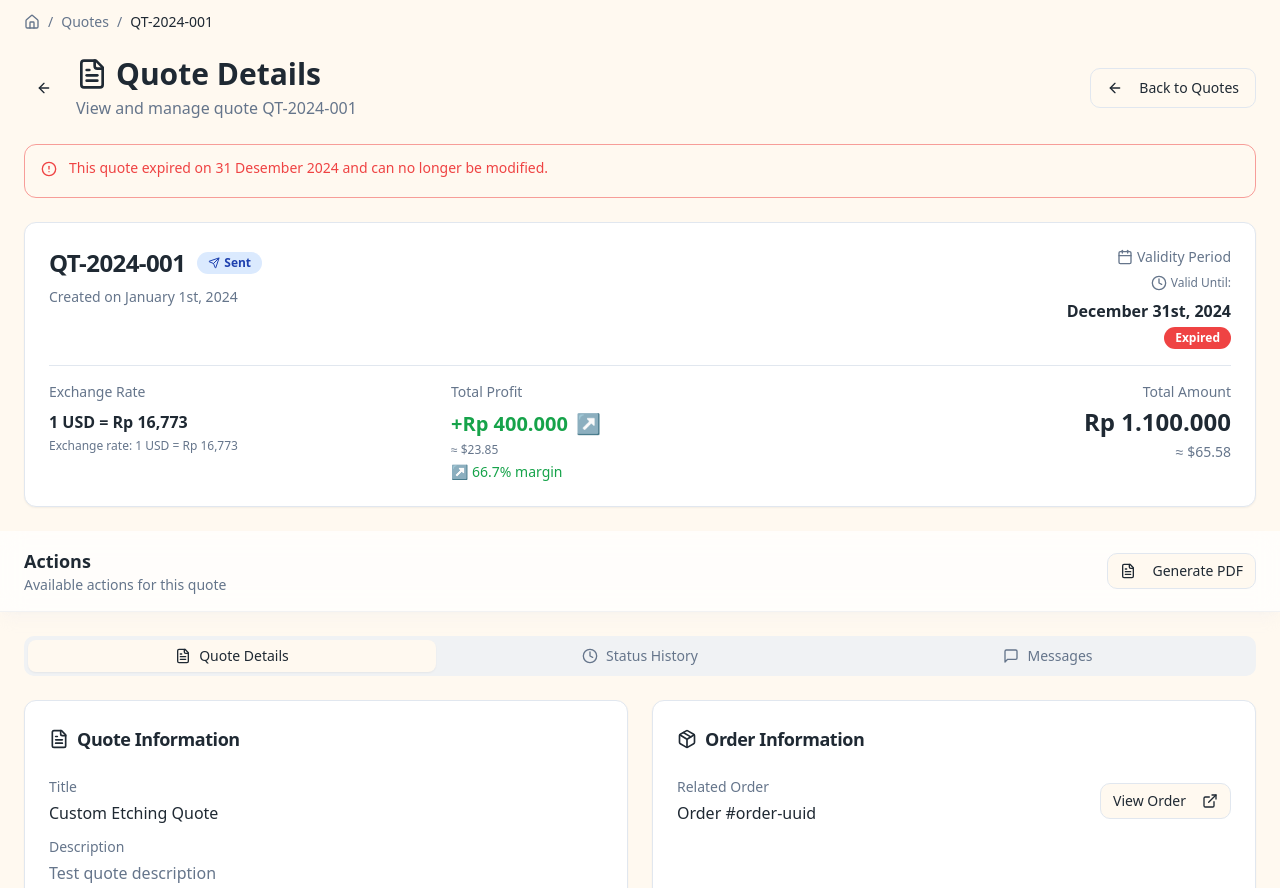
Test: QuoteDetail › should display status history timeline
The width and height of the screenshot is (1280, 888).
Expected: the text "Custom Etching Quote" is shown, x1=49 y1=802 x2=218 y2=824
Note: Click on History tab
Click the tab "Status History" at (640, 656), box x1=436 y1=640 x2=844 y2=672
(page scrolled)
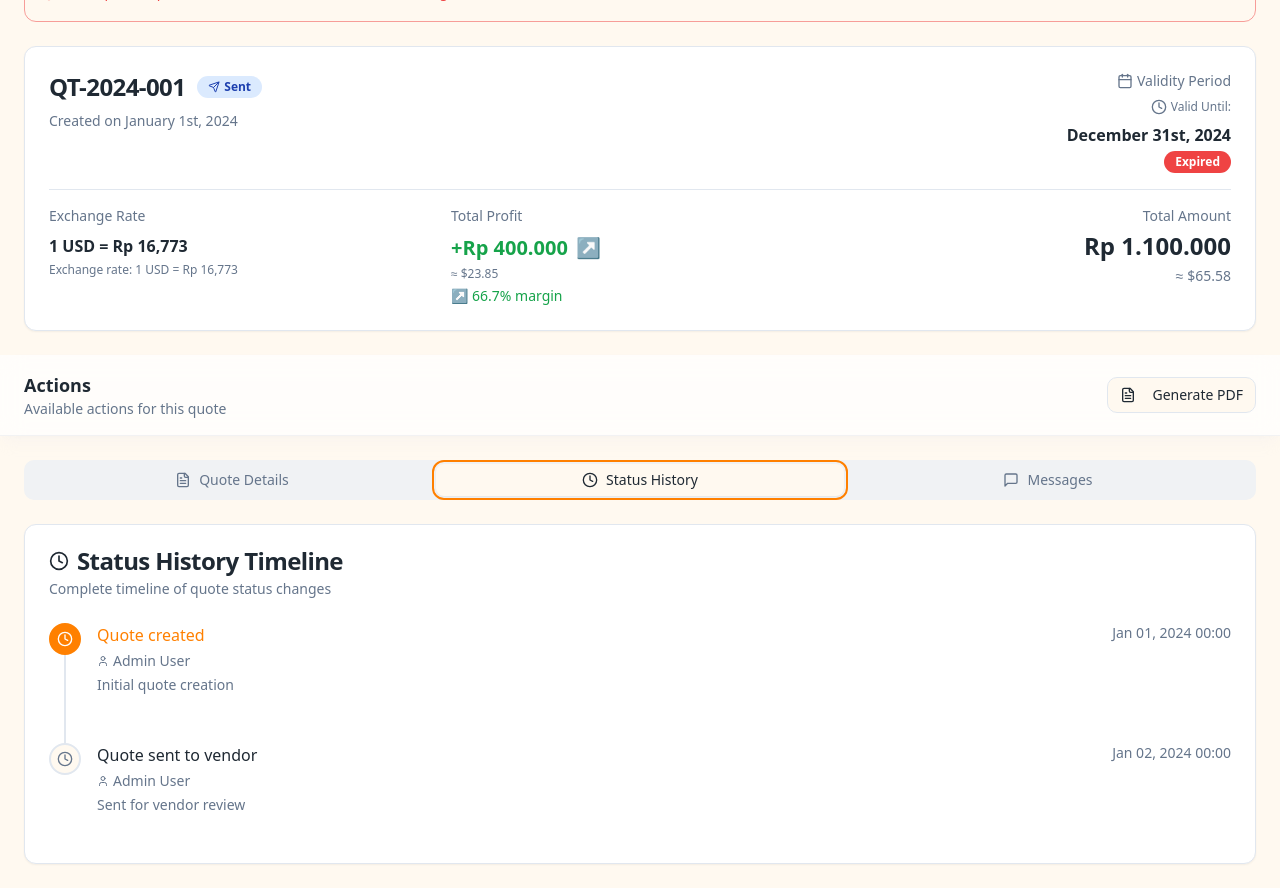
Result: the heading "Status History Timeline" is shown at x1=49 y1=544 x2=343 y2=577
Result: the text "Quote created" is shown at x1=97 y1=624 x2=205 y2=646
Result: the text "Quote sent to vendor" is shown at x1=97 y1=743 x2=257 y2=767
